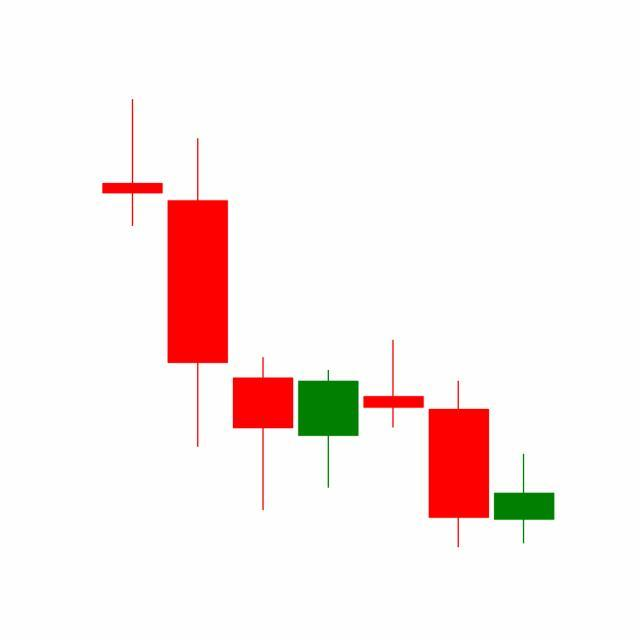Hikkake Pattern: (165, 134, 492, 549)
